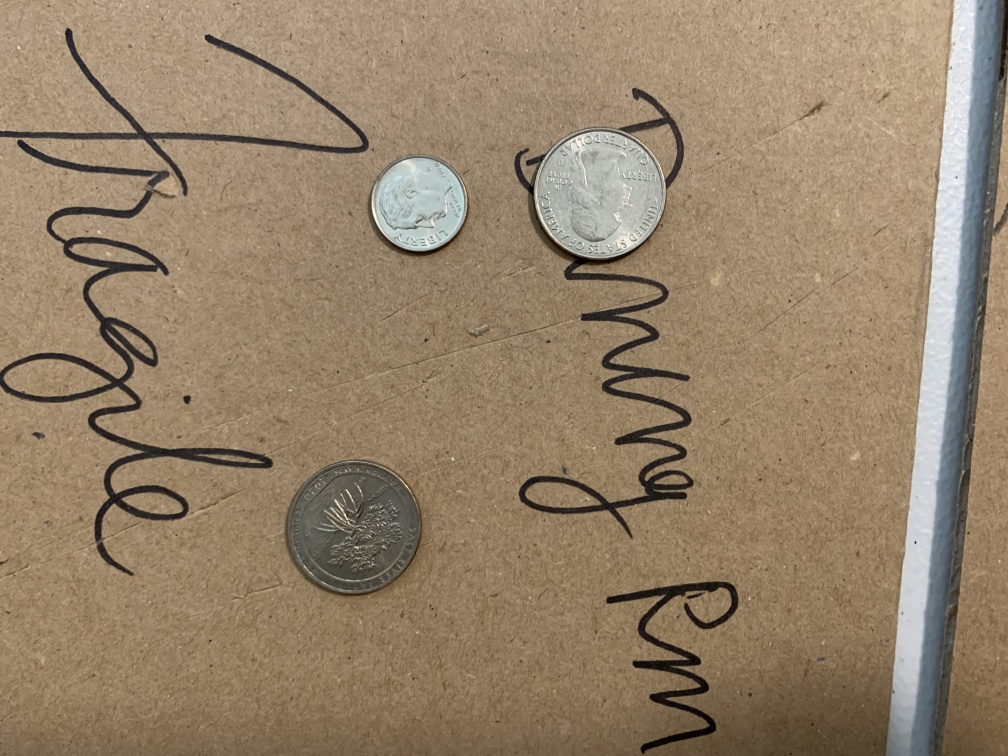dime: (365, 153, 471, 262)
quarter: (279, 457, 430, 602), (525, 124, 669, 264)
